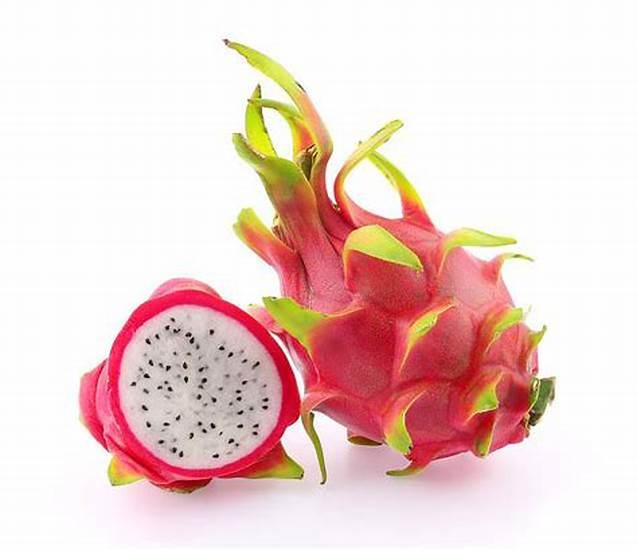dragon-fruit: (278, 83, 604, 479), (69, 278, 306, 498)
